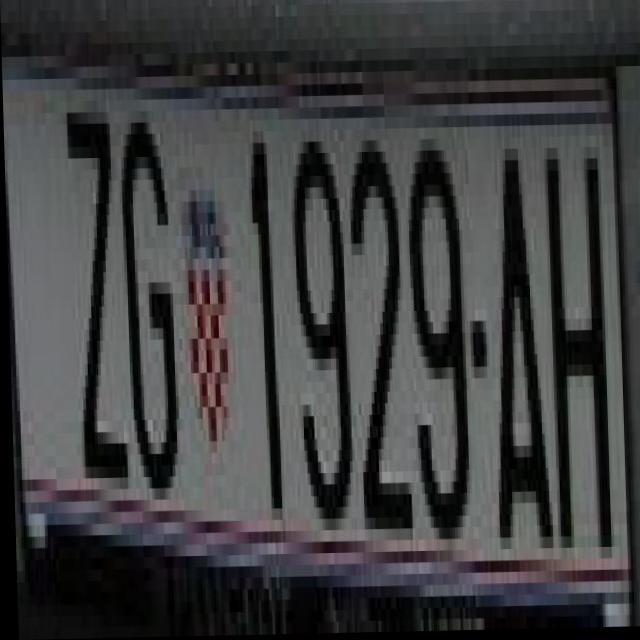1: (243, 109, 288, 522)
2: (341, 119, 409, 532)
9: (403, 129, 473, 542), (285, 108, 351, 521)
A: (485, 150, 553, 563)
G: (116, 100, 178, 501)
H: (540, 137, 617, 574)
Z: (61, 89, 128, 490)
